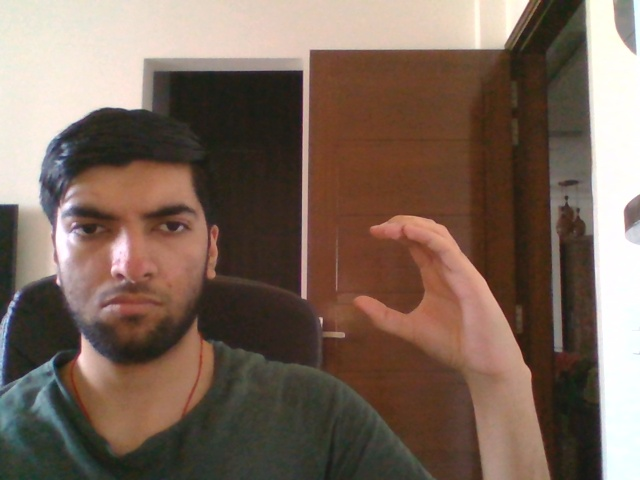LetterC: (352, 214, 532, 380)
